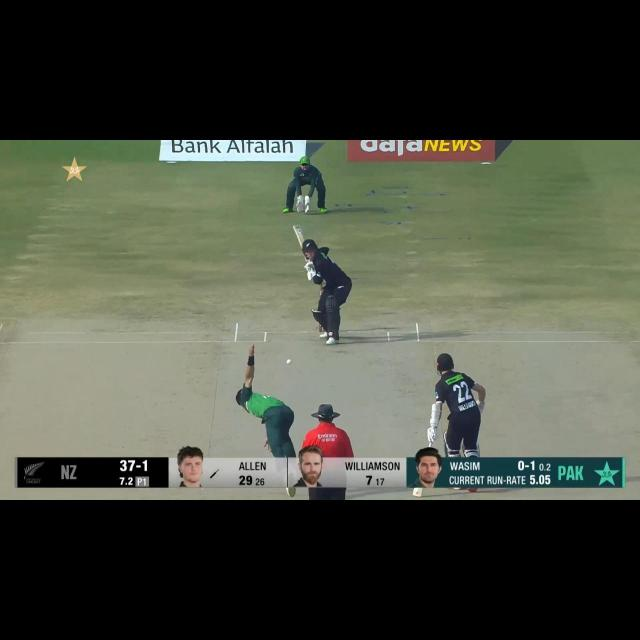bat: (293, 223, 311, 262), (412, 486, 423, 497)
toe: (294, 224, 302, 233)
